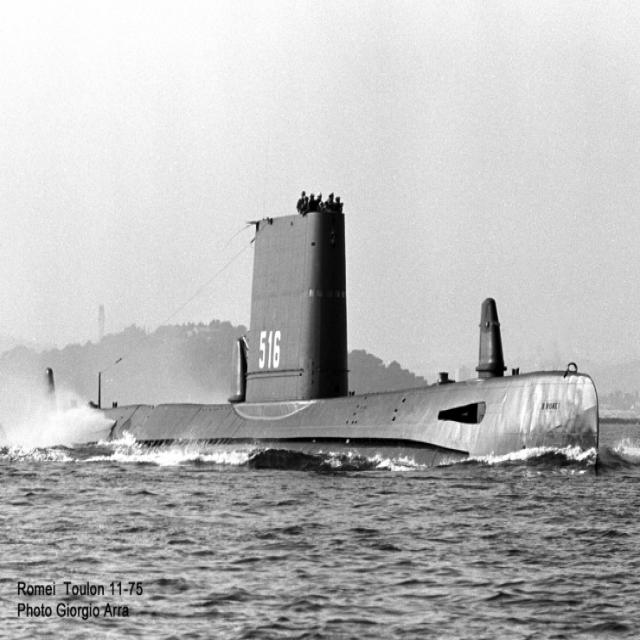submarine: (32, 212, 603, 470)
